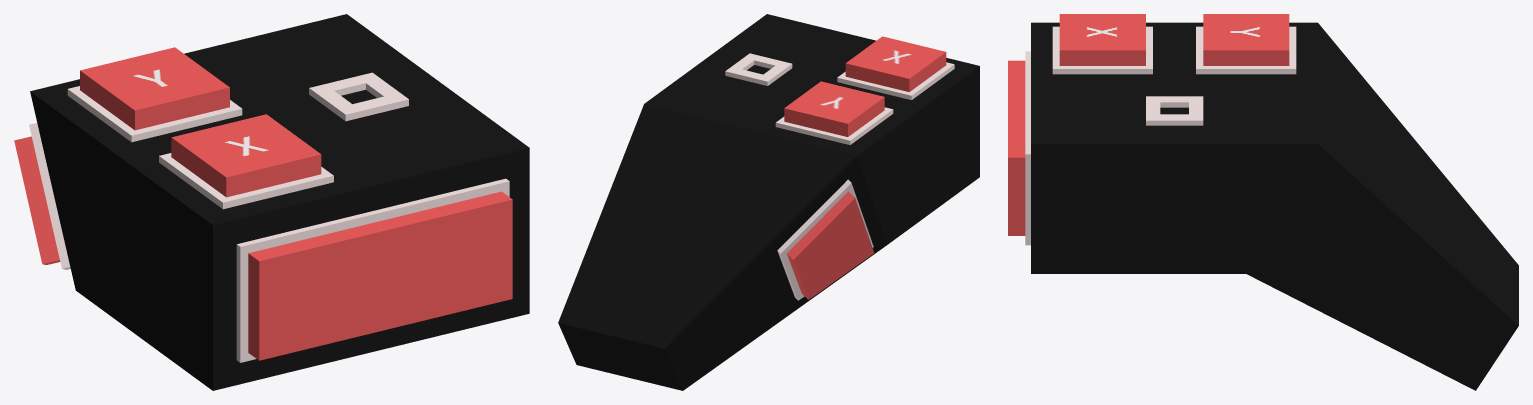
The model's file is vr_controller_left_body.fbx.
3 renders of one model, left to right at view 1: azimuth 30°, elevation 25°; view 2: azimuth 150°, elevation 25°; view 3: azimuth 270°, elevation 25°, orthographic. The views are drawn at different scales.
Visible parts, largest first — view 1: body_left; view 2: body_left; view 3: body_left.
Part boxes in pixels (<box>): body_left: <box>14,14,529,390</box>; body_left: <box>558,14,979,390</box>; body_left: <box>1008,14,1518,390</box>.
Size of the model in its own units: 204 by 206 by 356.
